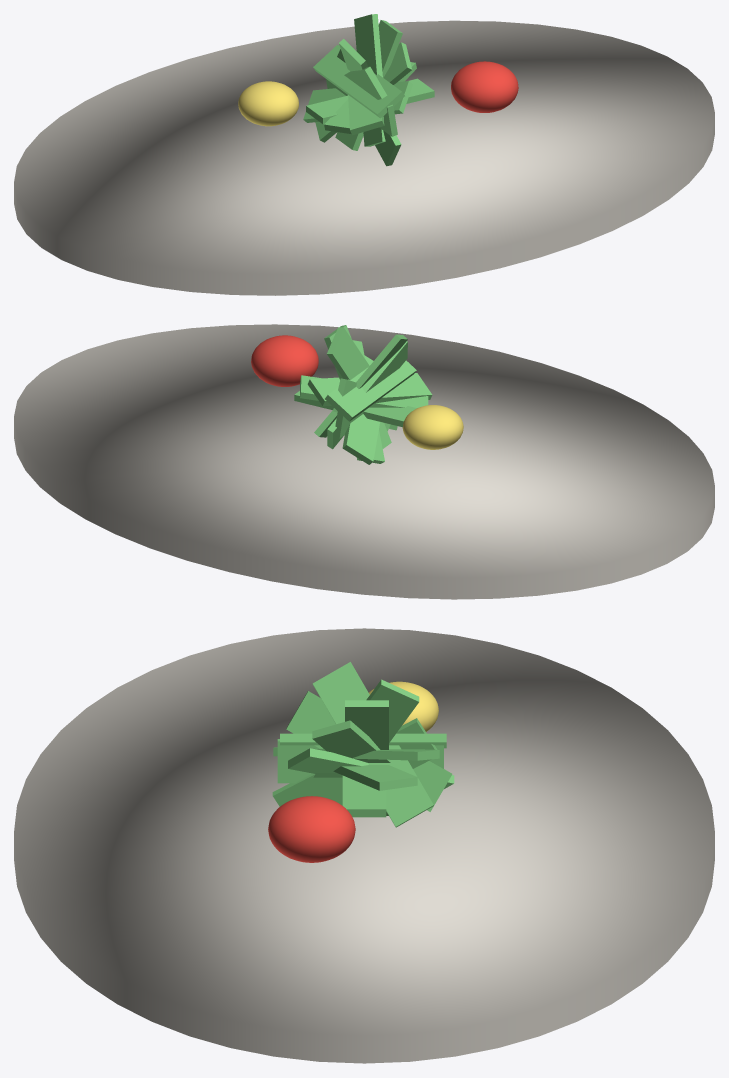
The model's file is salad.glb.
3 views of the same model, one above another, from view 1: azimuth 30°, elevation 25°; view 2: azimuth 150°, elevation 25°; view 3: azimuth 270°, elevation 25° (orthographic). The views are drawn at different scales.
Bounding box in the file's own units: 2.2 × 0.4769 × 1.6.
